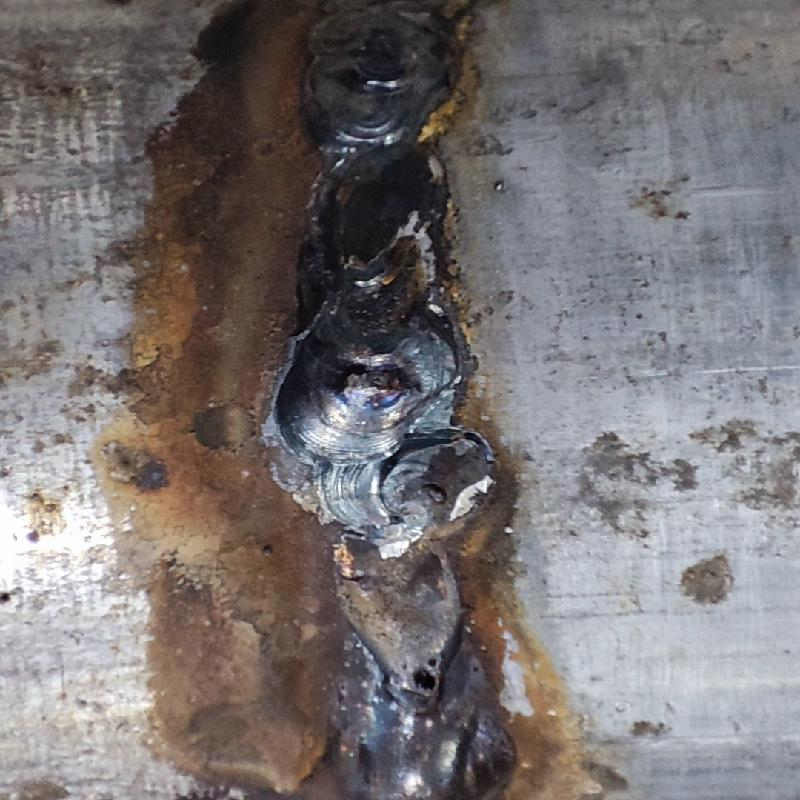Not_fully_soldered: (306, 456, 471, 700)
Surface_pores: (392, 649, 442, 696)
wrong_size: (296, 5, 465, 463)
